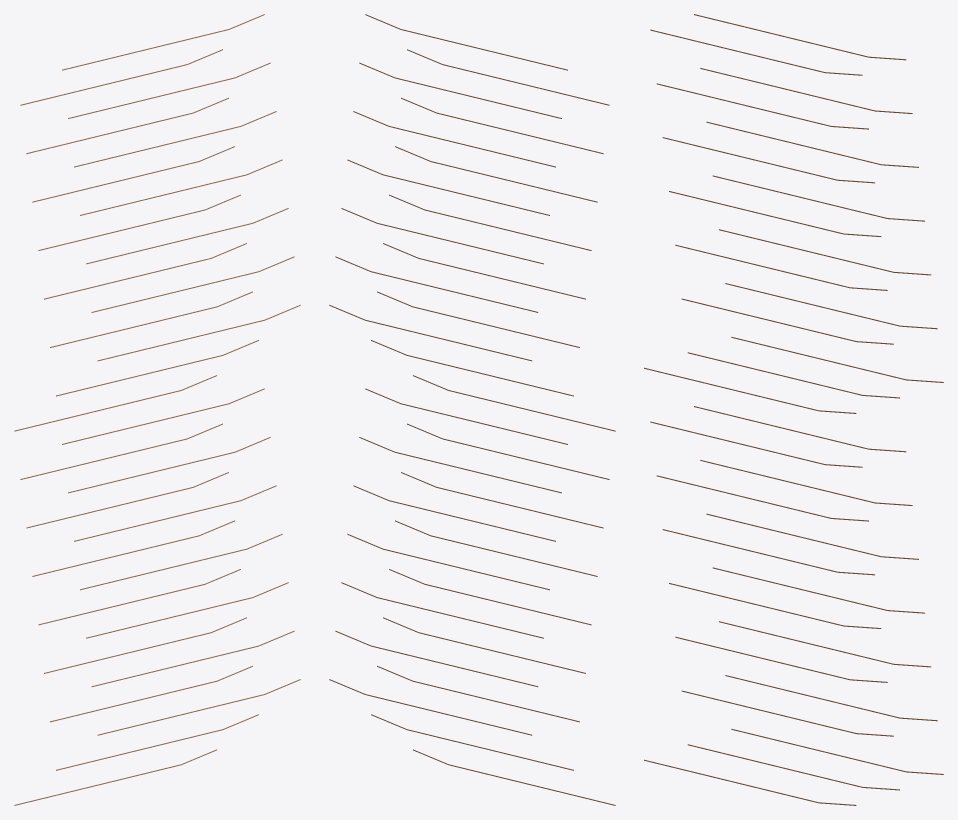
The model's file is 087_L102_L4_Layer_Power.glb.
The picture shows the model from 3 angles, left to right: view 1: azimuth 30°, elevation 25°; view 2: azimuth 150°, elevation 25°; view 3: azimuth 330°, elevation 25°; orthographic projection. The views are drawn at different scales.
Size of the model in its own units: 0.048 by 0.1171 by 4e-05.
